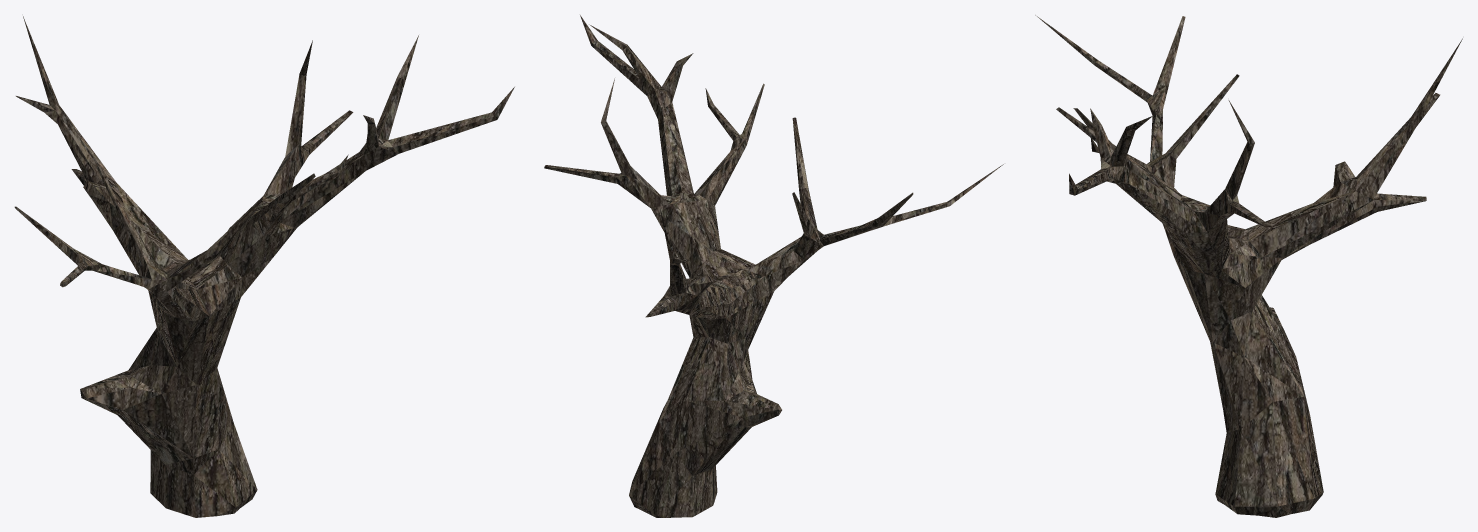
Rendered from dead_tree.glb.
The picture shows the model from 3 angles, left to right: view 1: azimuth 30°, elevation 25°; view 2: azimuth 150°, elevation 25°; view 3: azimuth 270°, elevation 25°; orthographic projection. The views are drawn at different scales.
Visible parts, largest first — view 1: Material2; view 2: Material2; view 3: Material2.
Boxes of the visible parts, box(x1,y1,x2,y2) form: Material2: box(14, 16, 514, 517); Material2: box(544, 15, 1003, 517); Material2: box(1035, 15, 1462, 517).
Size of the model in its own units: 414 by 389 by 331.
Materials: 1 (1 with a texture image).
